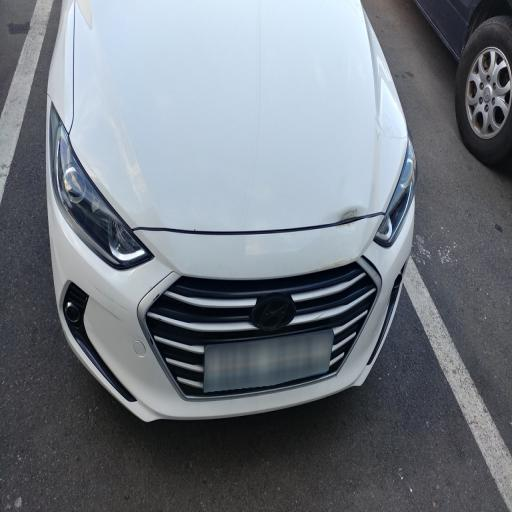dent: (69, 60, 161, 244), (317, 186, 390, 266)
